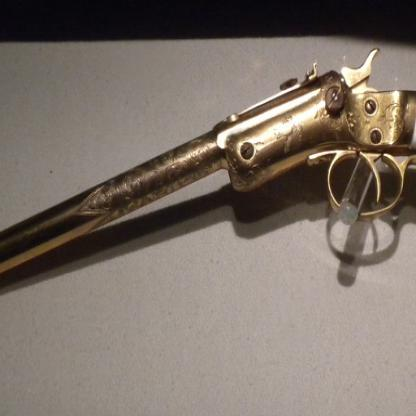gun: (0, 46, 415, 316)
